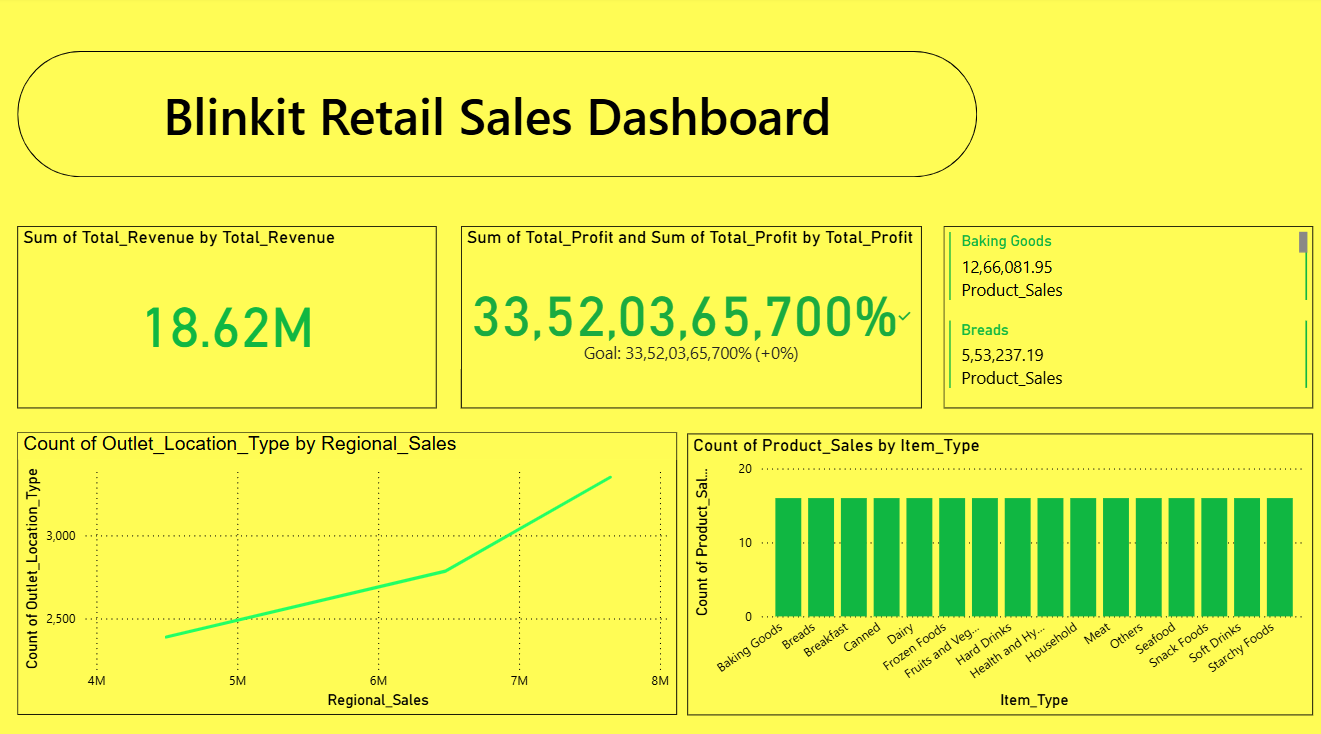

This screenshot's page, from the dashboard's own definition file:
{"tool":"powerbi","page":{"name":"Page 1","canvas":[1280,720],"ordinal":0},"visuals":[{"type":"lineChart","fields":{"Y":["CountNonNull(new.Outlet_Location_Type)"],"Category":["Regional Sales.Regional_Sales"]},"box":[20.6,421.3,636.7,273.1],"z":0},{"type":"clusteredColumnChart","fields":{"Category":["new.Item_Type"],"Y":["CountNonNull(Product_Performance.Product_Sales)"]},"box":[666.9,422.6,603.8,271.7],"z":1},{"type":"kpi","fields":{"Indicator":["Sum(Total Revenue.Total_Revenue)"],"TrendLine":["Total Revenue.Total_Revenue"]},"box":[20.6,222.3,404.8,175.6],"z":2},{"type":"kpi","fields":{"Indicator":["Sum(Total_Profit.Total_Profit)"],"TrendLine":["Total_Profit.Total_Profit"],"Goal":["Sum(Total_Profit.Total_Profit)"]},"box":[448.7,222.3,444.6,175.6],"z":3},{"type":"multiRowCard","fields":{"Values":["Product_Performance.Item_Type","Product_Performance.Product_Sales"]},"box":[913.9,222.3,356.8,175.6],"z":4},{"type":"shape","box":[175.6,38.4,927.6,122.1],"z":5}]}

Visuals, with their boxes in screenshot pixels (x1, y1, x2, y2), scaled from the page's 1280x720 canvas onto the 1321x734 screenshot:
lineChart - CountNonNull(new.Outlet_Location_Type) x Regional Sales.Regional_Sales: region(21, 429, 678, 708)
clusteredColumnChart - new.Item_Type x CountNonNull(Product_Performance.Product_Sales): region(688, 431, 1311, 708)
kpi - Sum(Total Revenue.Total_Revenue) x Total Revenue.Total_Revenue: region(21, 227, 439, 406)
kpi - Sum(Total_Profit.Total_Profit) x Total_Profit.Total_Profit: region(463, 227, 922, 406)
multiRowCard - Product_Performance.Item_Type x Product_Performance.Product_Sales: region(943, 227, 1311, 406)
shape: region(181, 39, 1139, 164)
